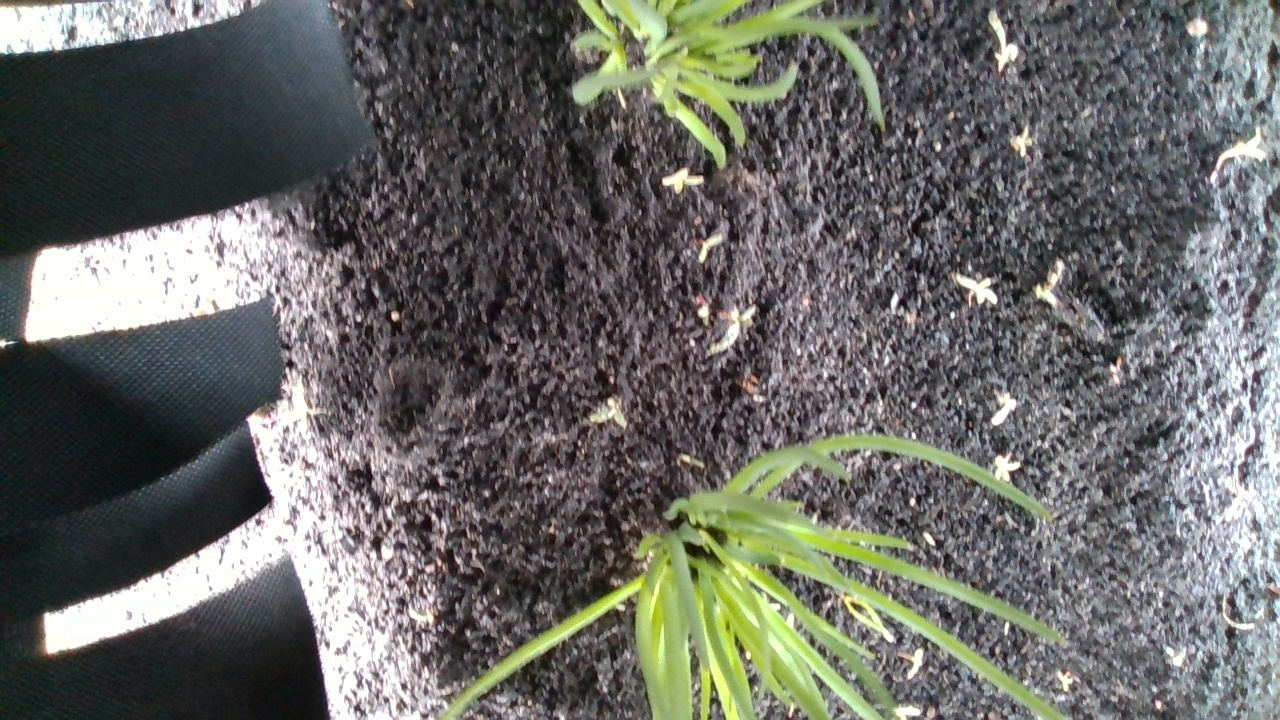weed: (954, 270, 1002, 313), (661, 160, 705, 198), (1011, 123, 1035, 161), (693, 229, 718, 265)
